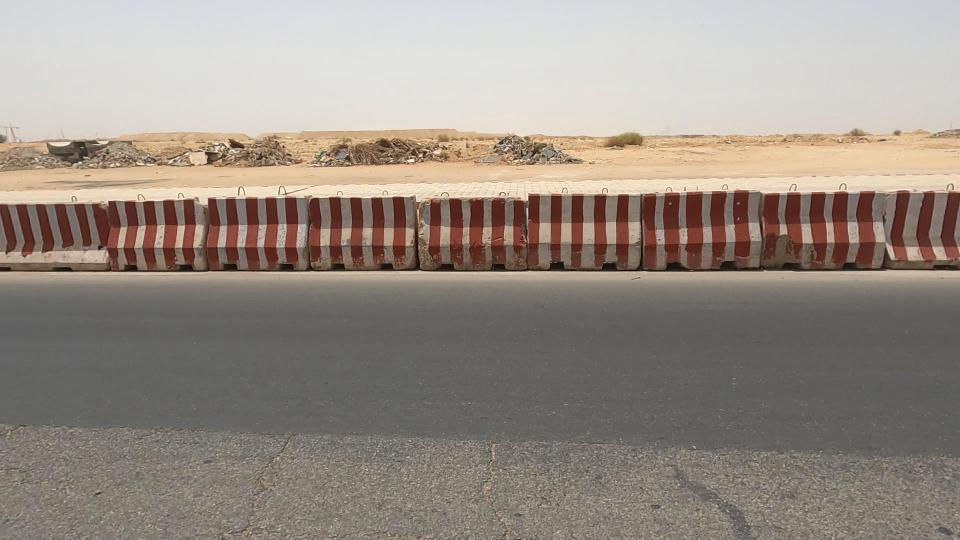CONSTRUCTION_ROAD: (271, 137, 959, 328), (0, 126, 544, 352)
